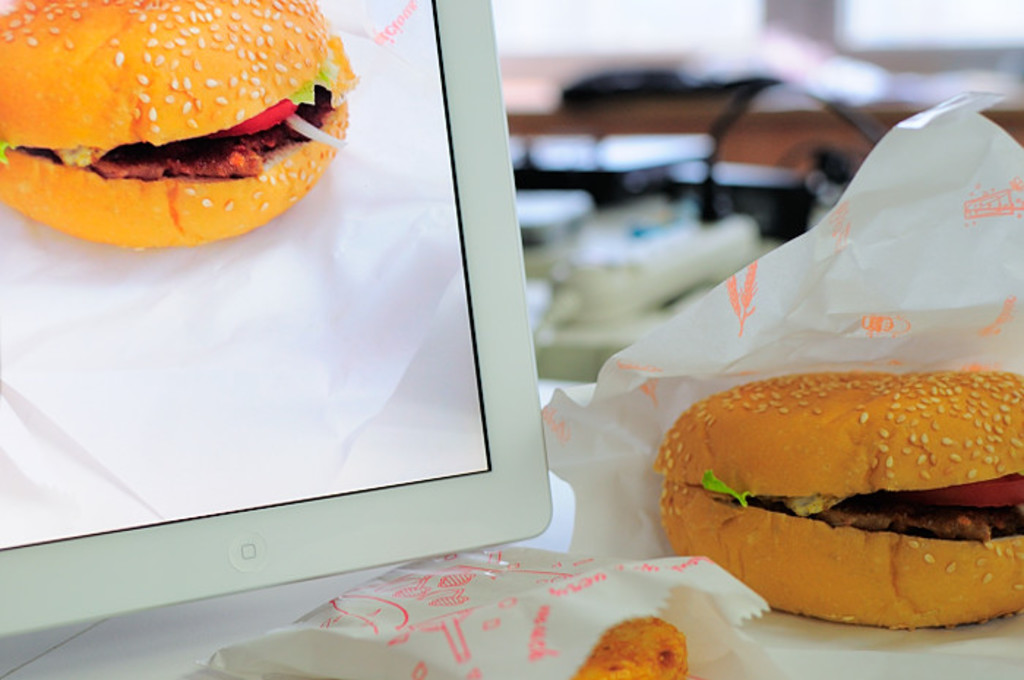Hamburger: (655, 372, 1022, 624), (0, 0, 356, 248)
